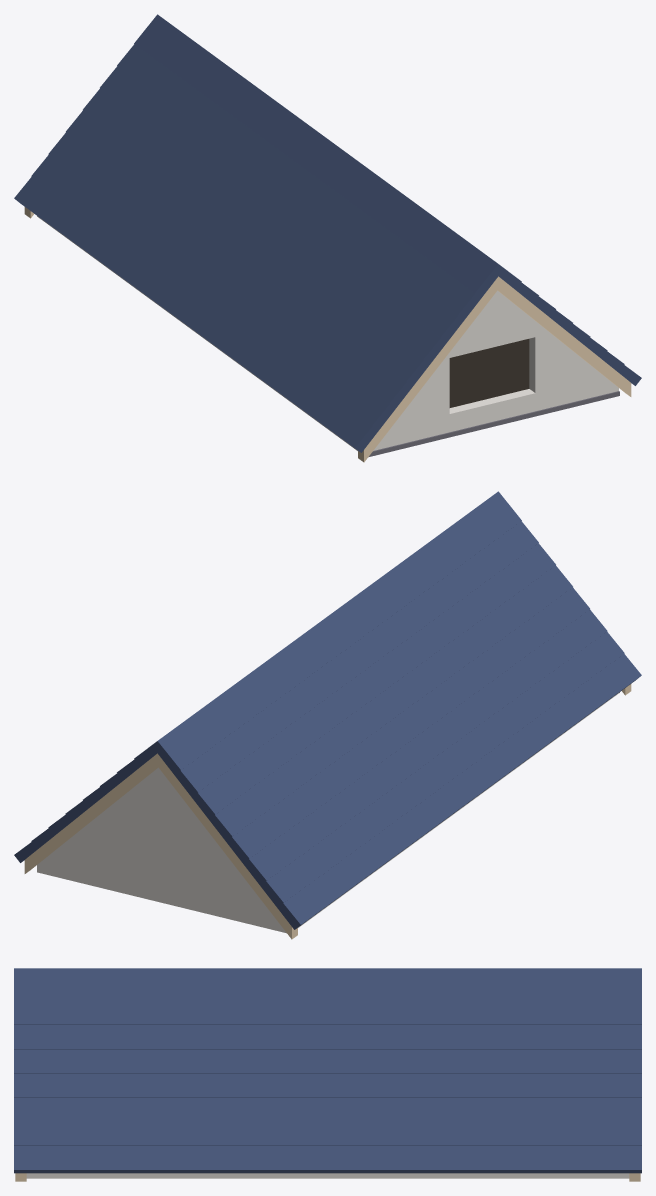
File: SM_Roof_NarrowGable_White_364_01.gltf
3 renders of one model, top to bottom at view 1: azimuth 30°, elevation 25°; view 2: azimuth 150°, elevation 25°; view 3: azimuth 270°, elevation 25°, orthographic. The views are drawn at different scales.
Parts seen in each view (by area): view 1: SM_Roof_NarrowGable_White_364_01; view 2: SM_Roof_NarrowGable_White_364_01; view 3: SM_Roof_NarrowGable_White_364_01.
Boxes of the visible parts, x1,y1,x2,y2 form: SM_Roof_NarrowGable_White_364_01: [14, 14, 641, 462]; SM_Roof_NarrowGable_White_364_01: [14, 491, 641, 939]; SM_Roof_NarrowGable_White_364_01: [14, 968, 641, 1181].
Bounding box in the file's own units: 4.12 × 2.29 × 8.49.
Materials: 1 (1 with a texture image).
